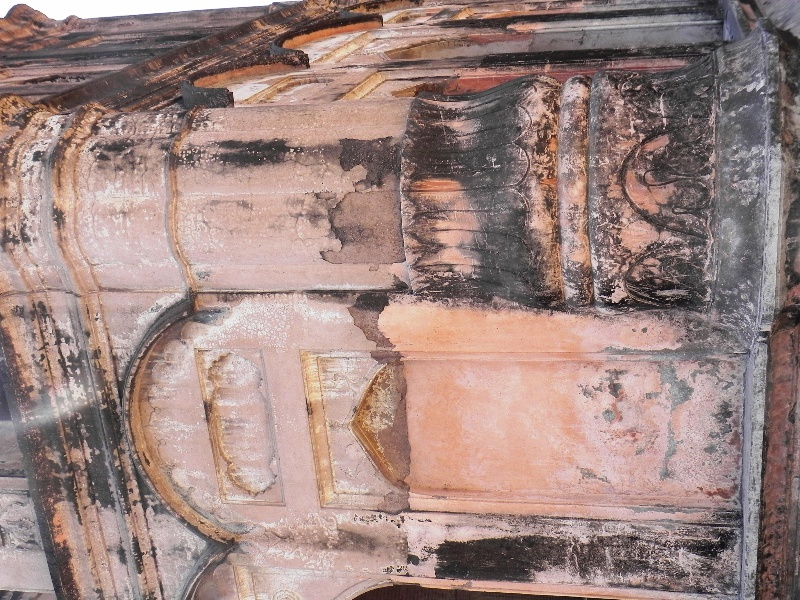Spalling: (318, 181, 410, 271), (338, 282, 408, 368), (377, 380, 417, 519)
